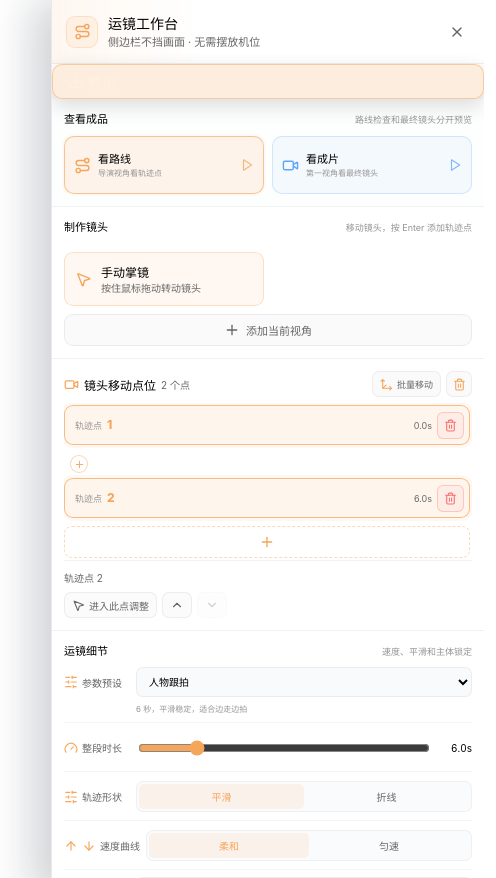
Test: inserts a new waypoint from the plus button between two route points
Click the button named "在轨迹点 1 和 2 之间插入轨迹点" at (79, 464), box [70, 455, 88, 473]
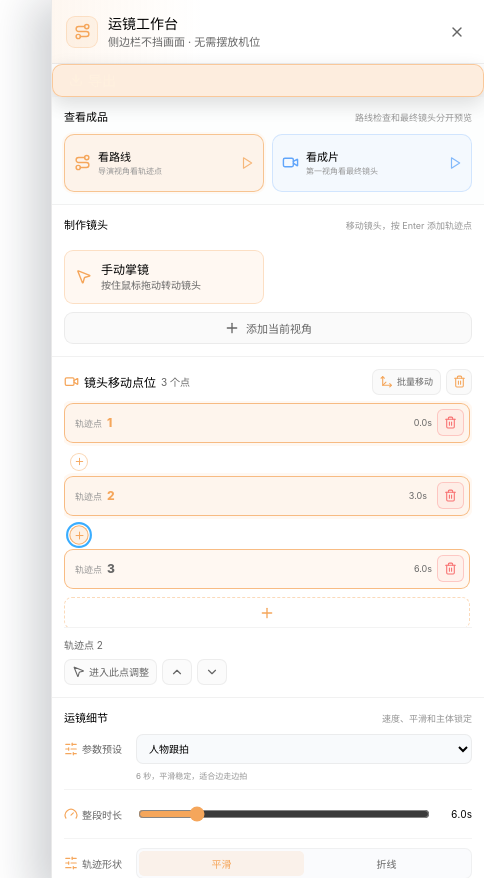
Expected: the button named "选择轨迹点 3" is shown, [64, 549, 470, 589]
